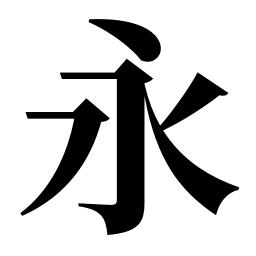D: (86, 15, 164, 53)
HSZ: (101, 62, 154, 95)
Hs: (57, 68, 89, 82)
Ne: (199, 177, 242, 219)
PNc: (147, 114, 176, 145)
PZe: (18, 190, 60, 218)
Ps: (187, 69, 230, 115)
SG: (76, 191, 148, 236)
Sm: (112, 151, 148, 182)
TPZ: (63, 97, 111, 142)
Ts: (23, 107, 41, 123)
